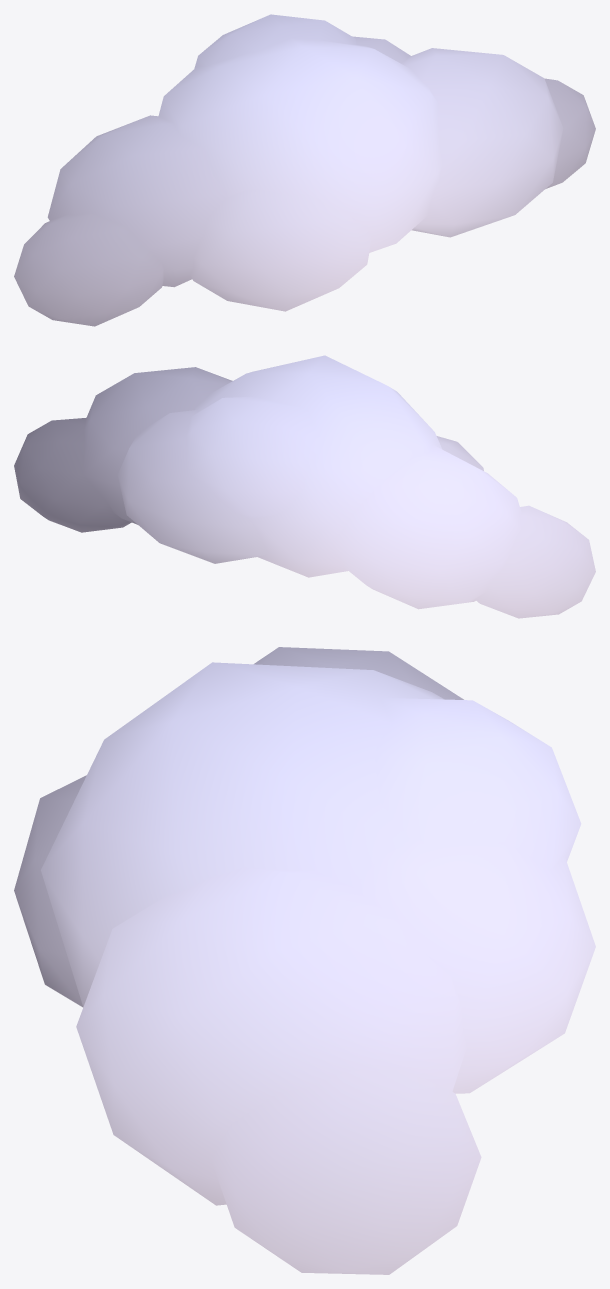
File: bifrost_cloud.glb
3 renders of one model, top to bottom at view 1: azimuth 30°, elevation 25°; view 2: azimuth 150°, elevation 25°; view 3: azimuth 270°, elevation 25°, orthographic. The views are drawn at different scales.
Parts seen in each view (by area): view 1: bifrost_cloud; view 2: bifrost_cloud; view 3: bifrost_cloud.
Boxes of the visible parts, left/top/right/bottom form: bifrost_cloud: left=14, top=14, right=595, bottom=326; bifrost_cloud: left=14, top=355, right=595, bottom=618; bifrost_cloud: left=14, top=647, right=595, bottom=1274.
Size of the model in its own units: 3.6 by 1.27 by 1.73.
